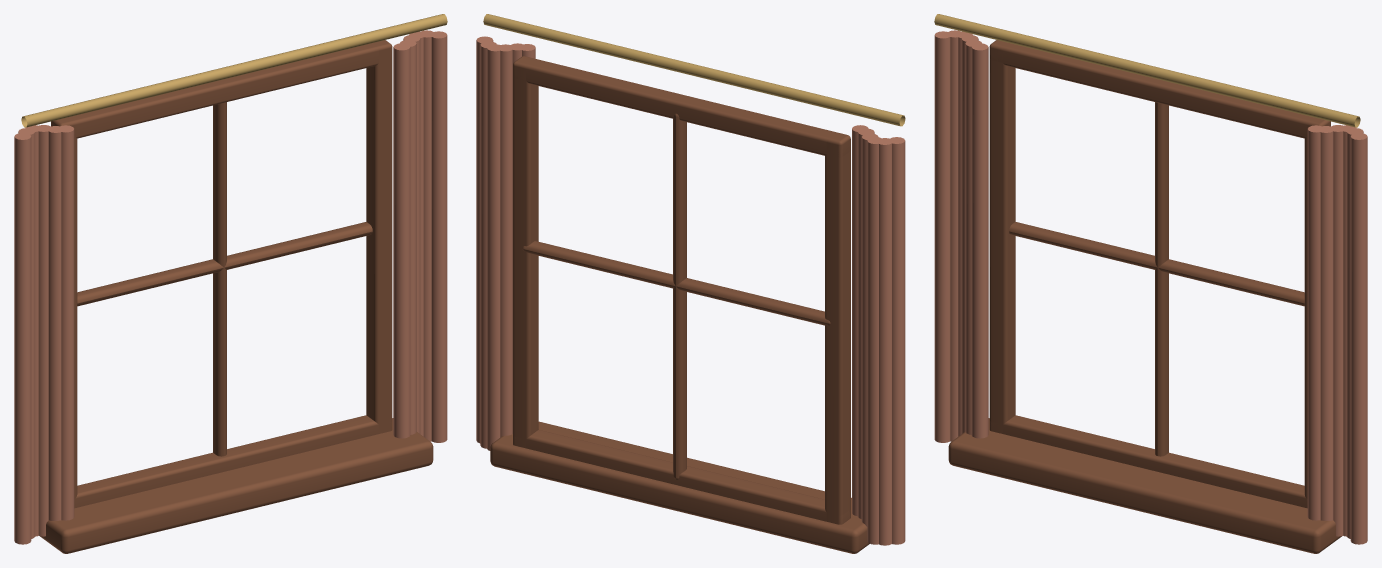
Rendered from classic-window.glb.
3 renders of one model, left to right at view 1: azimuth 30°, elevation 25°; view 2: azimuth 150°, elevation 25°; view 3: azimuth 330°, elevation 25°, orthographic.
Parts seen in each view (by area): view 1: Side moulding.006; view 2: Side moulding.006; view 3: Side moulding.006.
Boxes of the visible parts, x1,y1,x2,y2 form: Side moulding.006: [14, 14, 447, 553]; Side moulding.006: [476, 14, 905, 553]; Side moulding.006: [934, 14, 1367, 553].
Size of the model in its own units: 2.05 by 1.98 by 0.31.
